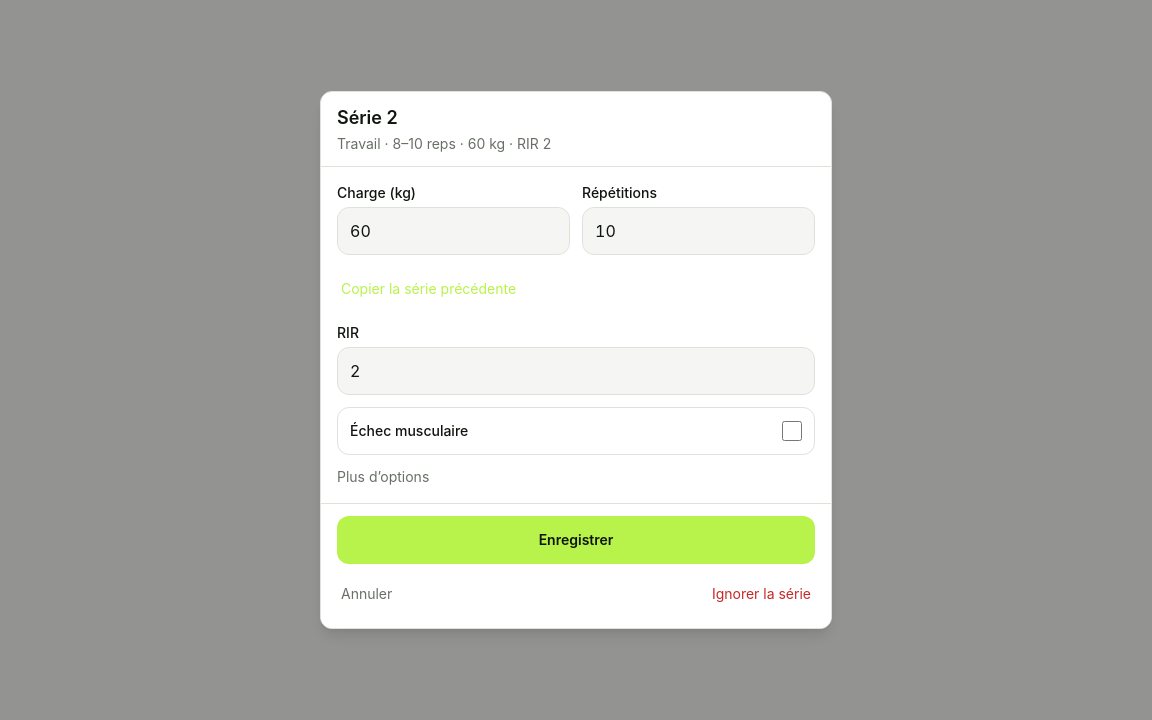
Test case: WorkoutSetFormDialog › copie WEIGHT_REPS depuis la série précédente sans persister tout de suite
Check: the number field labelled "Charge (kg)" holds "60", box [337,207,570,255]
Check: the text "Travail · 8–10 reps · 60 kg · RIR 2" is shown, box [337,135,551,152]
Click the button "Copier la série précédente".
click(429, 289)  # box [337,267,520,311]
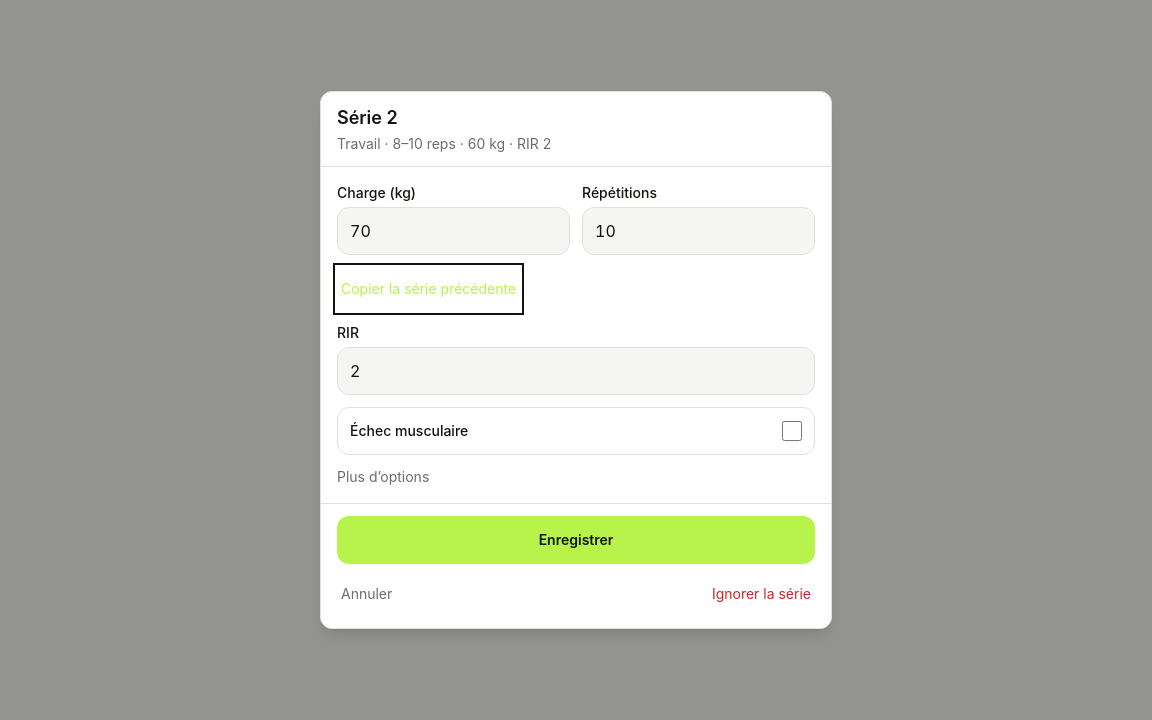
Check: the number field labelled "Répétitions" holds "10", box [582,207,815,255]
Check: the number field labelled "Charge (kg)" holds "70", box [337,207,570,255]
